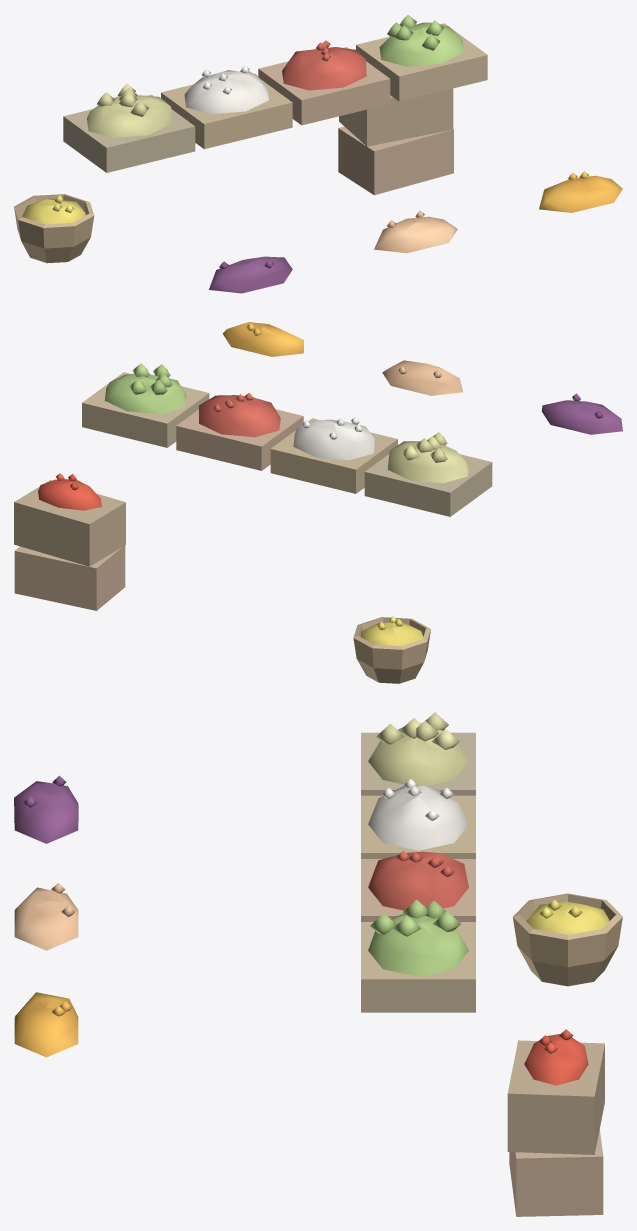
File: SM_BM_BP_StallGoods_D.glb
3 renders of one model, top to bottom at view 1: azimuth 30°, elevation 25°; view 2: azimuth 150°, elevation 25°; view 3: azimuth 270°, elevation 25°, orthographic. The views are drawn at different scales.
Visible parts, largest first — view 1: SM_BM_BP_StallGoods_D; view 2: SM_BM_BP_StallGoods_D; view 3: SM_BM_BP_StallGoods_D.
Boxes of the visible parts, bbox=[...] form: SM_BM_BP_StallGoods_D: bbox=[14, 15, 622, 293]; SM_BM_BP_StallGoods_D: bbox=[14, 322, 622, 683]; SM_BM_BP_StallGoods_D: bbox=[14, 712, 622, 1216].
Bounding box in the file's own units: 2.82 × 1.27 × 2.65.
